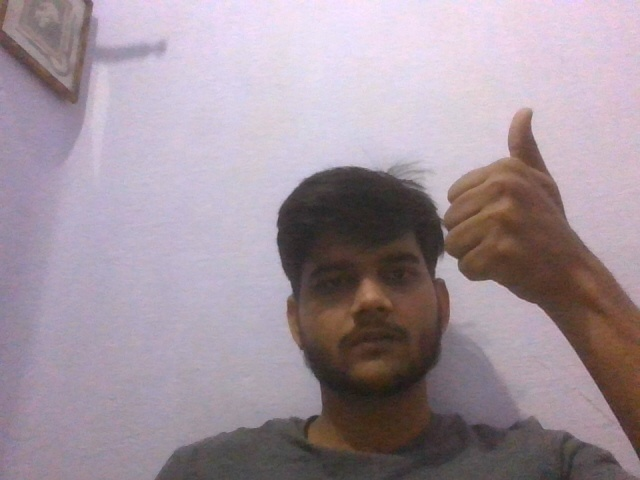thanks: (410, 89, 619, 330)
